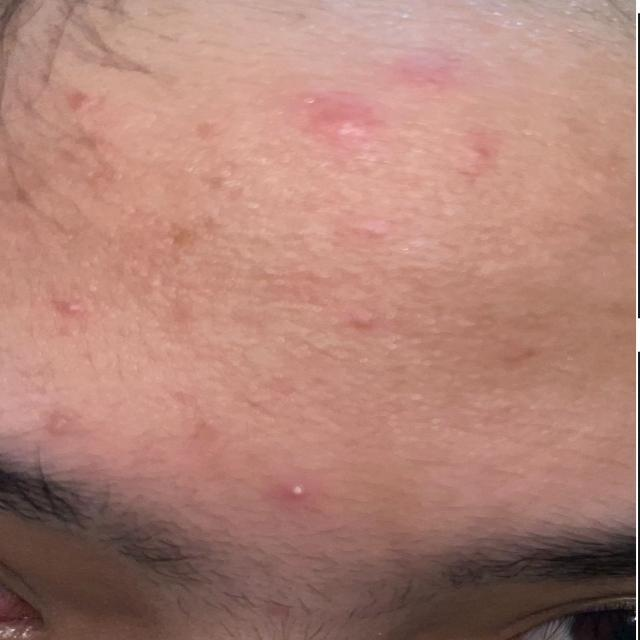papule: (250, 30, 523, 174)
pustule: (279, 461, 321, 510), (53, 287, 91, 332)
